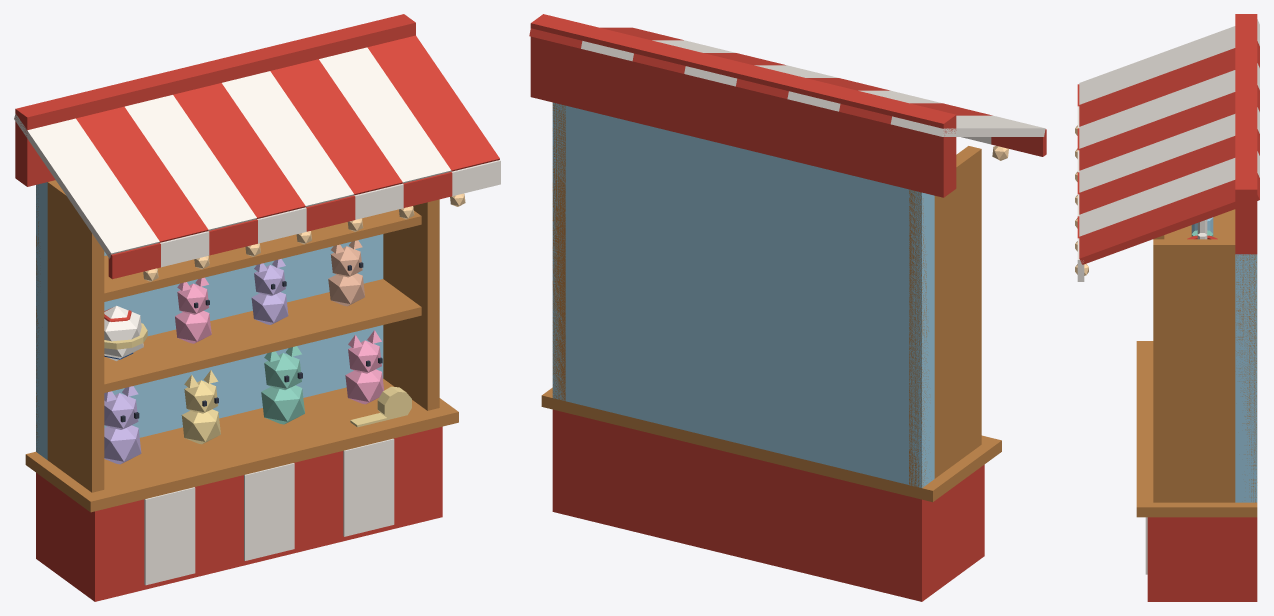
File: CatCafe_Decor_PrizeShelf.glb
The picture shows the model from 3 angles, left to right: view 1: azimuth 30°, elevation 25°; view 2: azimuth 150°, elevation 25°; view 3: azimuth 270°, elevation 25°; orthographic projection. The views are drawn at different scales.
Parts seen in each view (by area): view 1: CatCafe_Decor_PrizeShelf, CatCafe_Decor_PrizeShelf_Glow; view 2: CatCafe_Decor_PrizeShelf; view 3: CatCafe_Decor_PrizeShelf.
Part boxes in pixels (bbox=[...]): CatCafe_Decor_PrizeShelf: bbox=[14, 14, 500, 601]; CatCafe_Decor_PrizeShelf_Glow: bbox=[143, 193, 465, 281]; CatCafe_Decor_PrizeShelf: bbox=[529, 14, 1046, 601]; CatCafe_Decor_PrizeShelf: bbox=[1077, 14, 1259, 601].
Bounding box in the file's own units: 3.8 × 4.25 × 1.69.
Materials: 1 (1 with a texture image).
